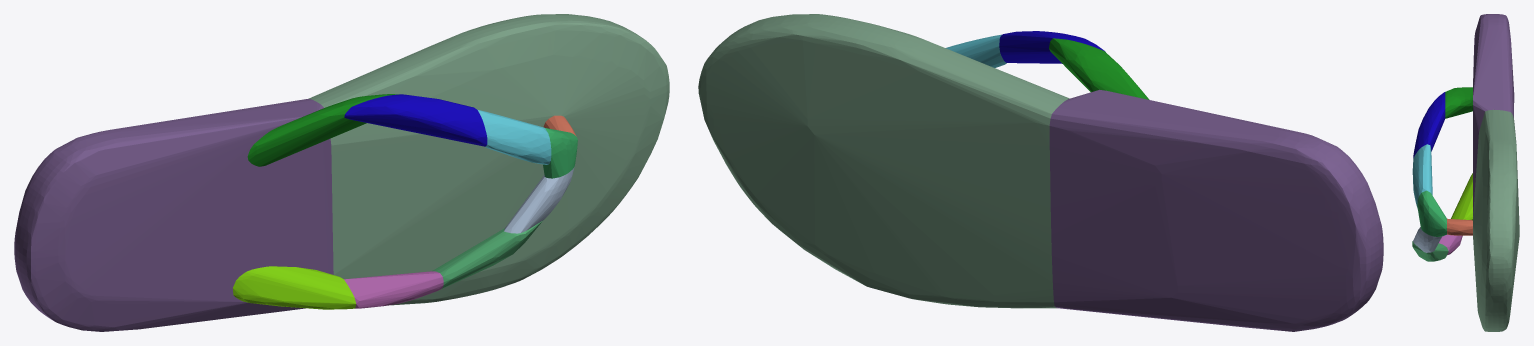
The model's file is coacd_collision.obj.
The picture shows the model from 3 angles, left to right: view 1: azimuth 30°, elevation 25°; view 2: azimuth 150°, elevation 25°; view 3: azimuth 270°, elevation 25°; orthographic projection. The views are drawn at different scales.
Parts seen in each view (by area): view 1: geometry_0, geometry_1, geometry_5, geometry_4, geometry_8, geometry_7, geometry_2, geometry_3, geometry_6, geometry_10; view 2: geometry_0, geometry_1, geometry_8, geometry_5, geometry_2; view 3: geometry_0, geometry_1, geometry_5, geometry_10, geometry_2, geometry_8, geometry_4, geometry_9, geometry_6, geometry_3, geometry_7.
Part boxes in pixels (bbox=[...]): geometry_0: bbox=[309, 14, 669, 305]; geometry_1: bbox=[14, 98, 333, 331]; geometry_5: bbox=[344, 94, 487, 146]; geometry_4: bbox=[232, 266, 356, 309]; geometry_8: bbox=[247, 94, 398, 166]; geometry_7: bbox=[344, 271, 443, 308]; geometry_2: bbox=[477, 109, 551, 164]; geometry_3: bbox=[432, 221, 542, 288]; geometry_6: bbox=[504, 167, 574, 233]; geometry_10: bbox=[543, 128, 577, 178]; geometry_0: bbox=[698, 14, 1069, 308]; geometry_1: bbox=[1049, 89, 1383, 331]; geometry_8: bbox=[1049, 38, 1149, 99]; geometry_5: bbox=[999, 31, 1105, 63]; geometry_2: bbox=[945, 34, 1006, 67]; geometry_0: bbox=[1473, 109, 1519, 331]; geometry_1: bbox=[1473, 14, 1514, 215]; geometry_5: bbox=[1413, 92, 1445, 158]; geometry_10: bbox=[1417, 190, 1446, 236]; geometry_2: bbox=[1412, 144, 1432, 207]; geometry_8: bbox=[1445, 87, 1472, 118]; geometry_4: bbox=[1451, 173, 1472, 220]; geometry_9: bbox=[1447, 218, 1472, 235]; geometry_6: bbox=[1413, 227, 1441, 252]; geometry_3: bbox=[1412, 241, 1448, 261]; geometry_7: bbox=[1439, 234, 1462, 255].
Size of the model in its own units: 271 by 101 by 56.17.
